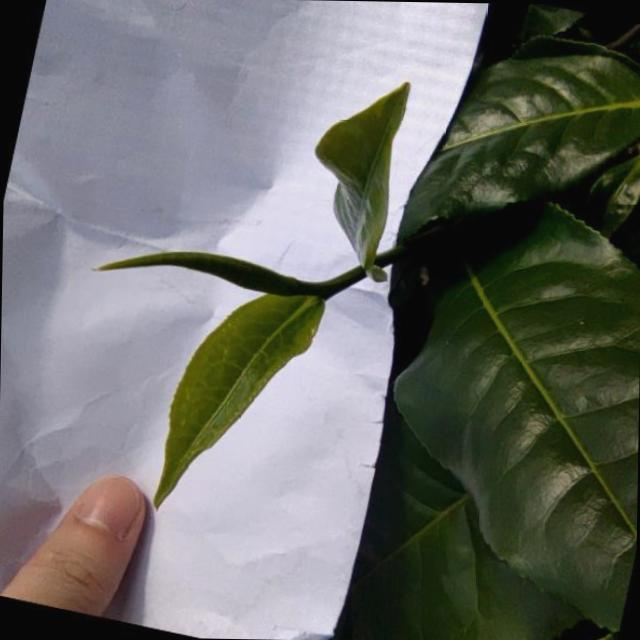Stem: (314, 283, 329, 296)
